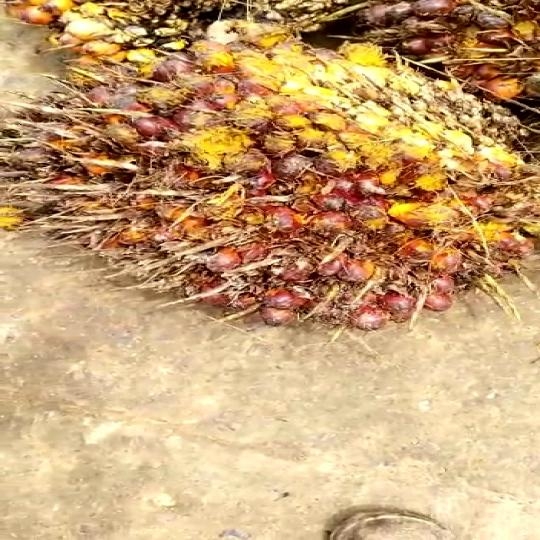masak: (0, 39, 540, 342)
